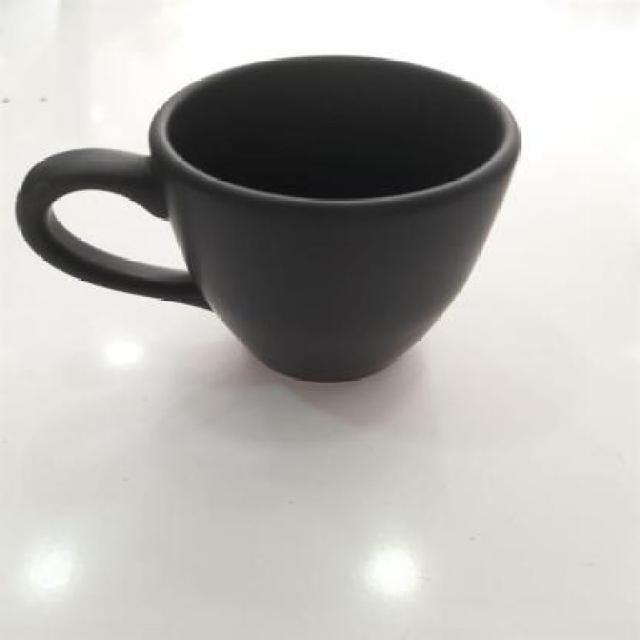taza: (12, 53, 524, 382)
